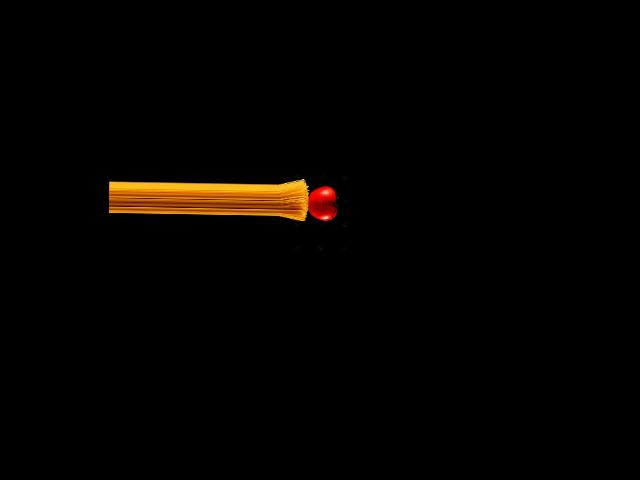tomato: (307, 185, 337, 220)
